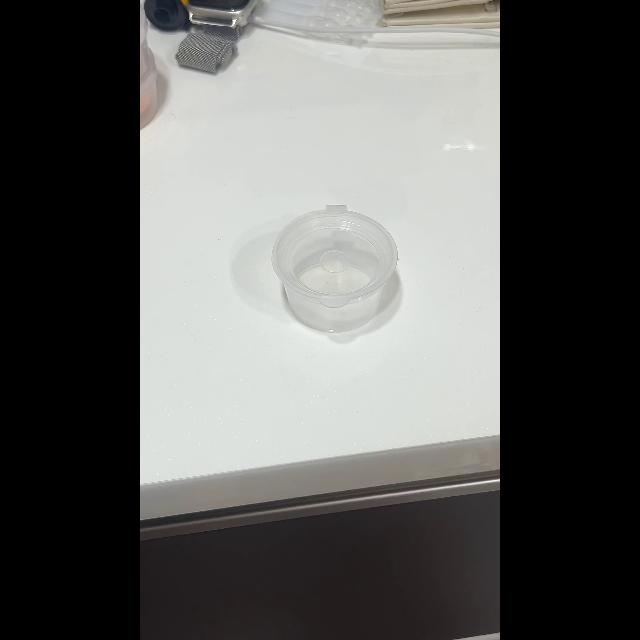clean: (272, 201, 404, 333)
